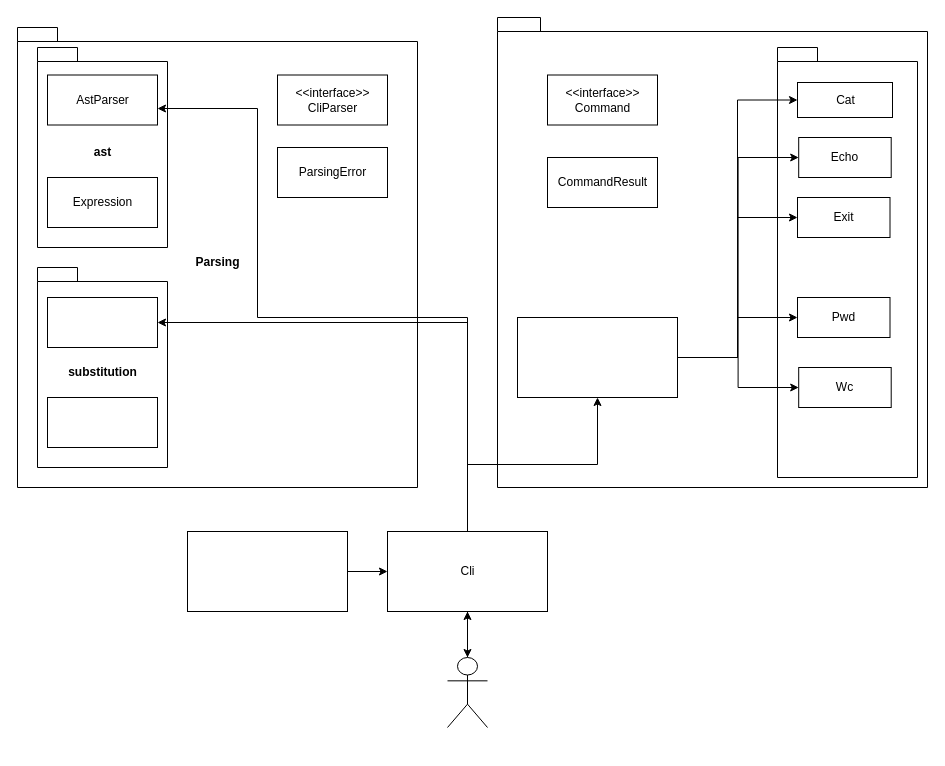
This 945x766 diagram has some shape labels left out. The shapes that lost their labels are listed below. From the top down, each one's box as (x1, y1, x2, y2) in pixels, then its label:
(496, 16, 928, 488): Commands
(776, 46, 918, 478): builtins
(46, 296, 158, 348): SubstitutionParser
(516, 316, 678, 398): CommandExecutor
(46, 396, 158, 448): Token
(186, 530, 348, 612): Main
(446, 656, 488, 728): Actor
